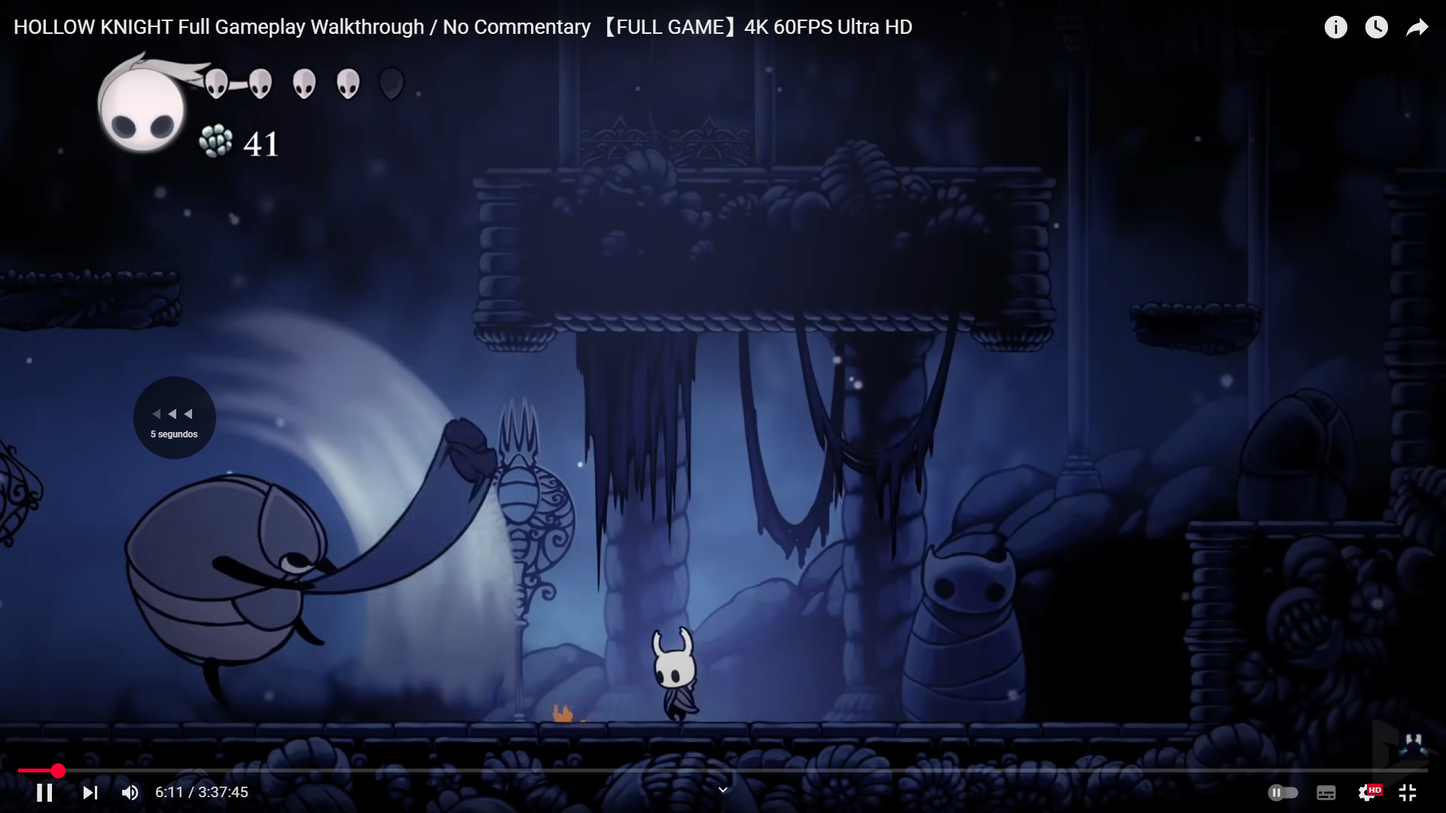HK: (648, 624, 707, 722)
